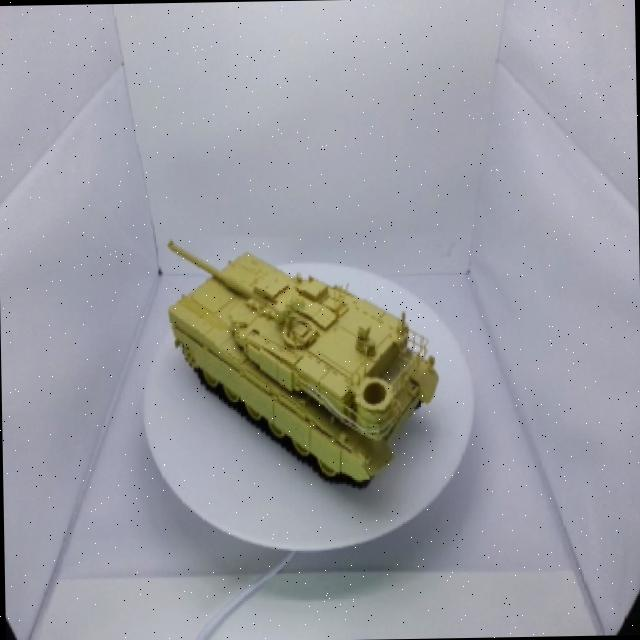korea tank: (141, 197, 443, 508)
